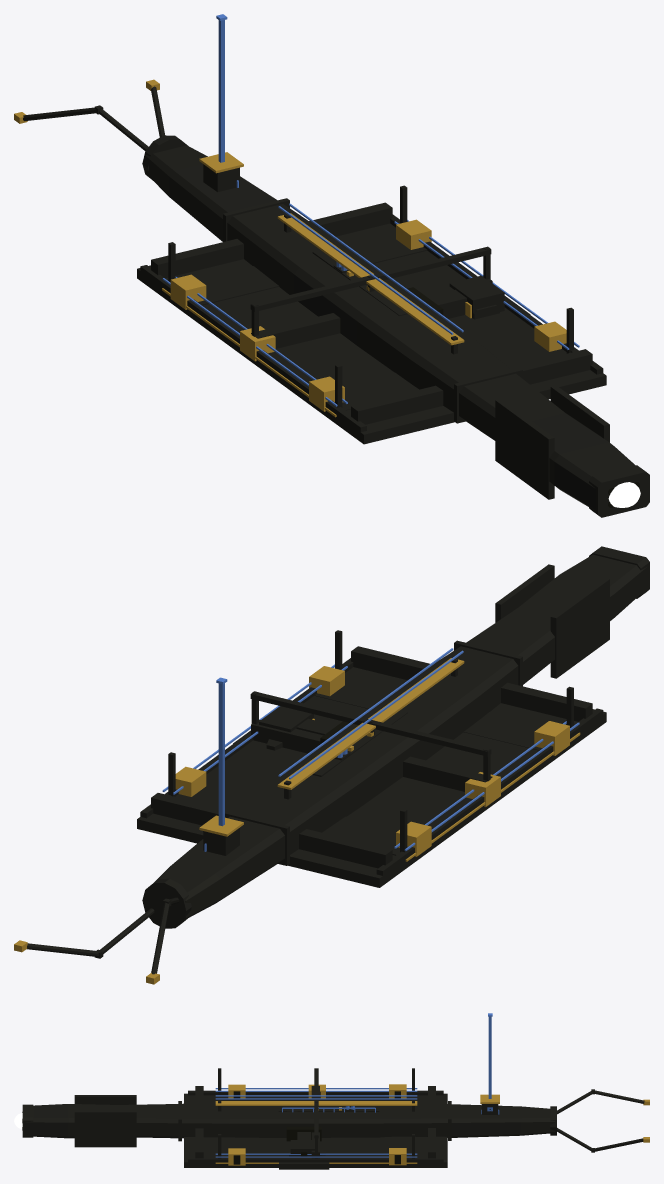
3 renders of one model, top to bottom at view 1: azimuth 30°, elevation 25°; view 2: azimuth 150°, elevation 25°; view 3: azimuth 270°, elevation 25°, orthographic. The views are drawn at different scales.
Visible parts, largest first — view 1: RIMWARD_HULL; view 2: RIMWARD_HULL; view 3: RIMWARD_HULL.
Boxes of the visible parts, x1,y1,x2,y2 form: RIMWARD_HULL: (14, 14, 649, 517); RIMWARD_HULL: (14, 546, 649, 984); RIMWARD_HULL: (22, 1013, 649, 1169).
Bounding box in the file's own units: 8.66 × 7.3 × 32.82.
